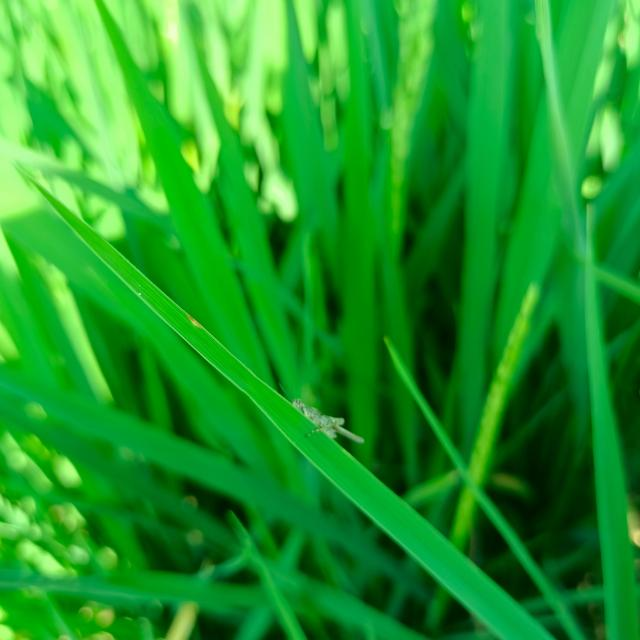belalang pada tanaman padi: (289, 396, 365, 447)
